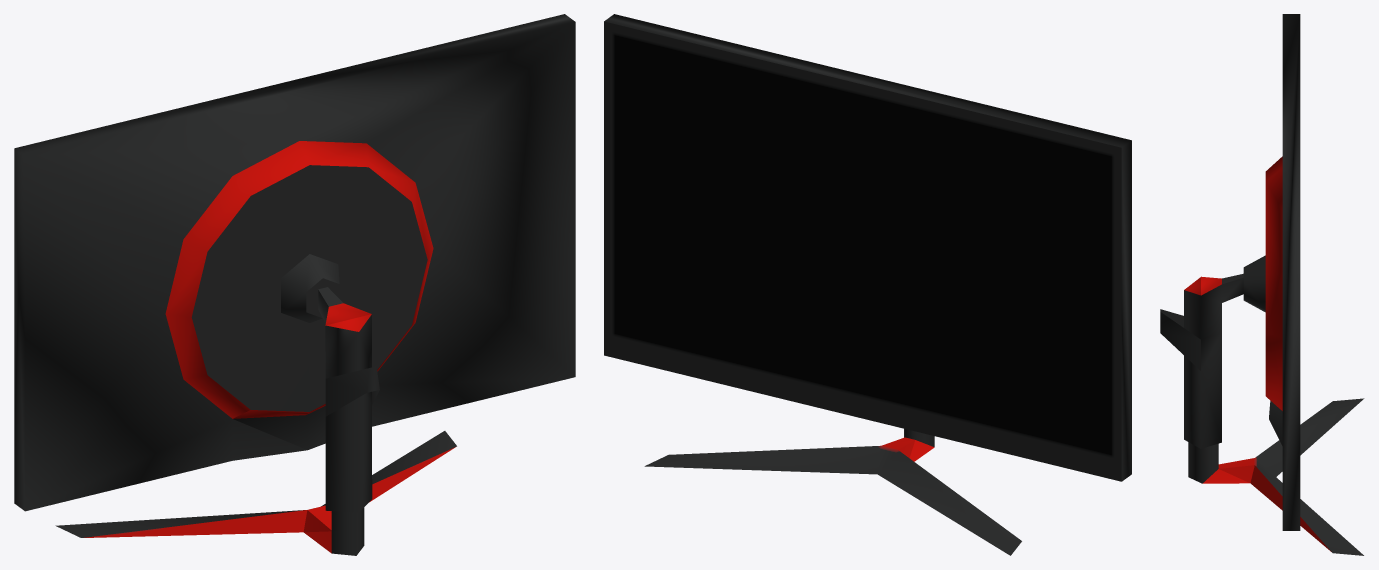
File: low-poly_gaming_monitor.glb
3 renders of one model, left to right at view 1: azimuth 30°, elevation 25°; view 2: azimuth 150°, elevation 25°; view 3: azimuth 270°, elevation 25°, orthographic. The views are drawn at different scales.
Parts seen in each view (by area): view 1: ug650f-b; view 2: ug650f-b; view 3: ug650f-b.
Part boxes in pixels (<box>): ug650f-b: <box>14,14,575,555</box>; ug650f-b: <box>604,14,1131,555</box>; ug650f-b: <box>1160,14,1364,555</box>.
Bounding box in the file's own units: 0.7259 × 0.5358 × 0.2815.
1 material, 1 textured.
